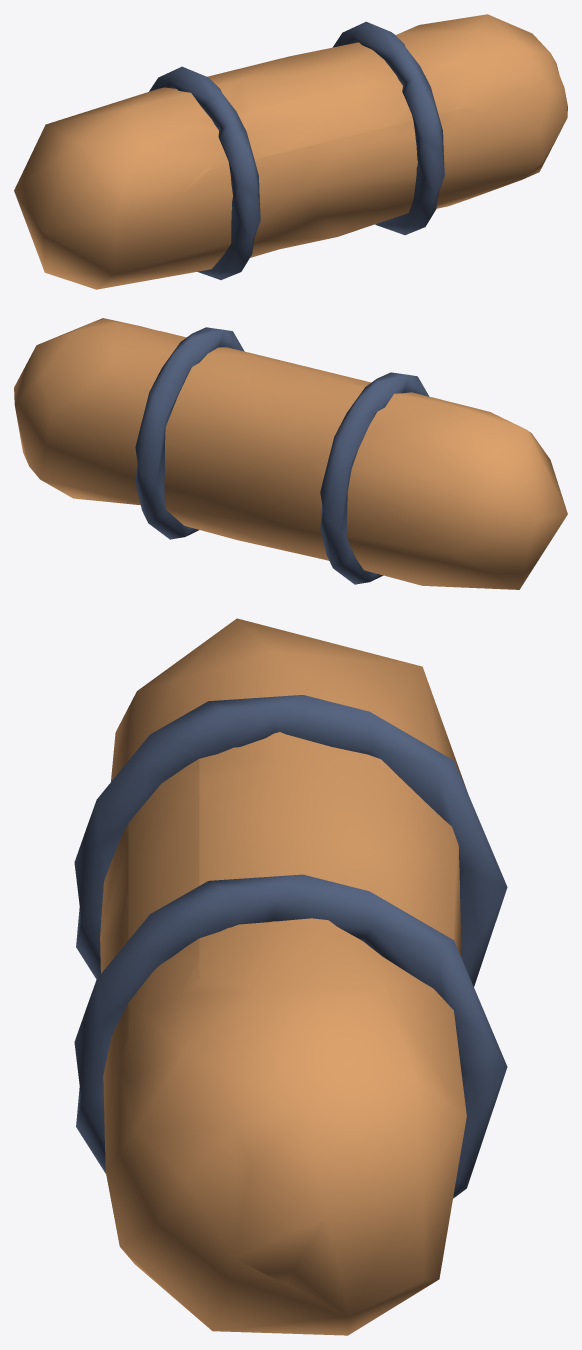
Rendered from tenue_cargo.glb.
3 views of the same model, one above another, from view 1: azimuth 30°, elevation 25°; view 2: azimuth 150°, elevation 25°; view 3: azimuth 270°, elevation 25° (orthographic). The views are drawn at different scales.
Visible parts, largest first — view 1: torso__sac; view 2: torso__sac; view 3: torso__sac.
Boxes of the visible parts, left/top/right/bottom form: torso__sac: left=14, top=14, right=567, bottom=289; torso__sac: left=14, top=318, right=567, bottom=589; torso__sac: left=74, top=618, right=507, bottom=1335.
Bounding box in the file's own units: 0.4294 × 0.1523 × 0.1528.
